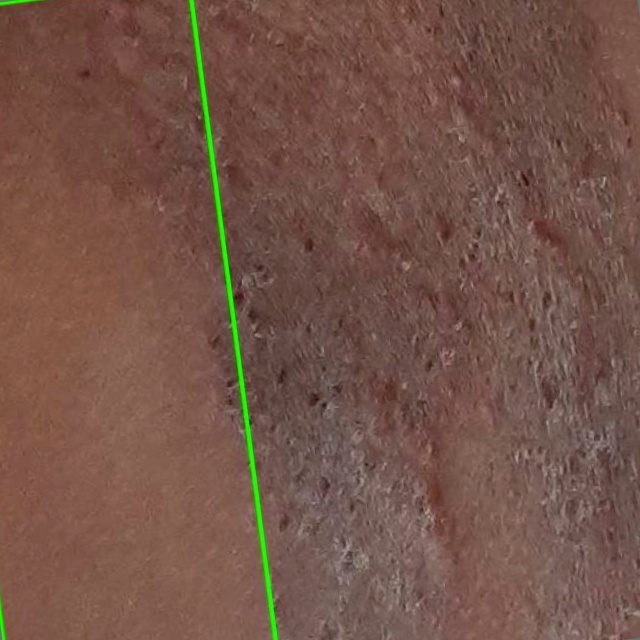Tinea Corporis: (0, 0, 275, 639)
